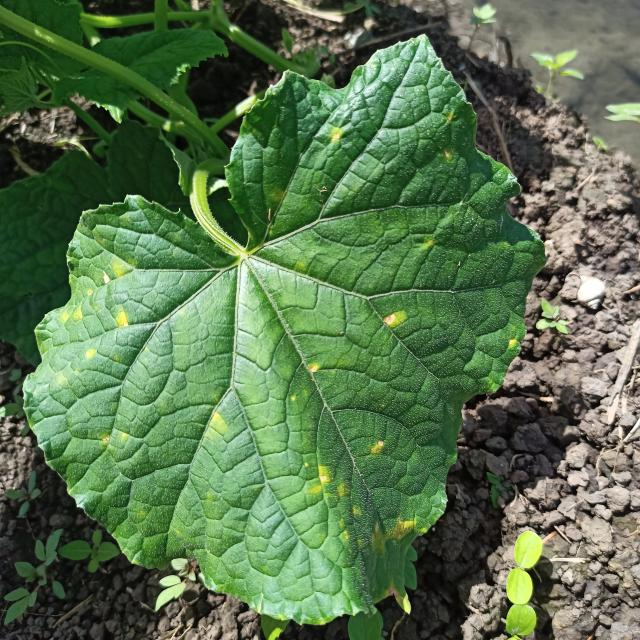disease_cucumber: (306, 440, 420, 550), (58, 262, 129, 366), (382, 308, 407, 330), (208, 408, 226, 438), (307, 363, 322, 375), (331, 130, 343, 142)
